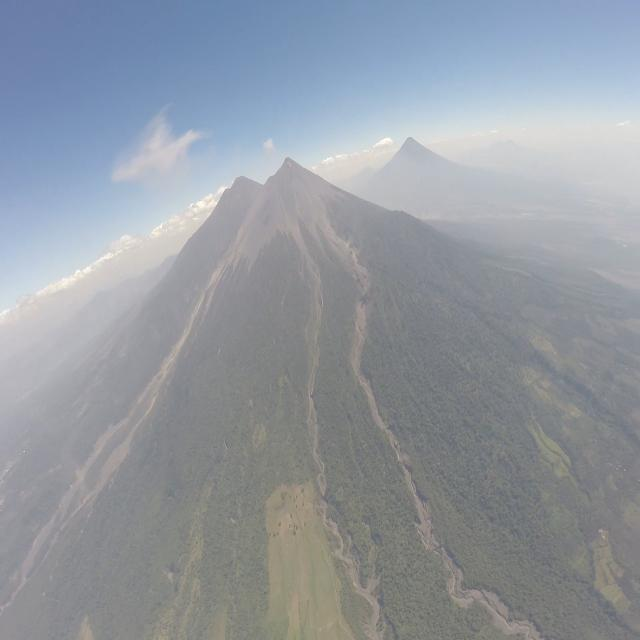Plume: (112, 114, 210, 186), (262, 136, 277, 152)
Summit: (270, 154, 304, 173)
